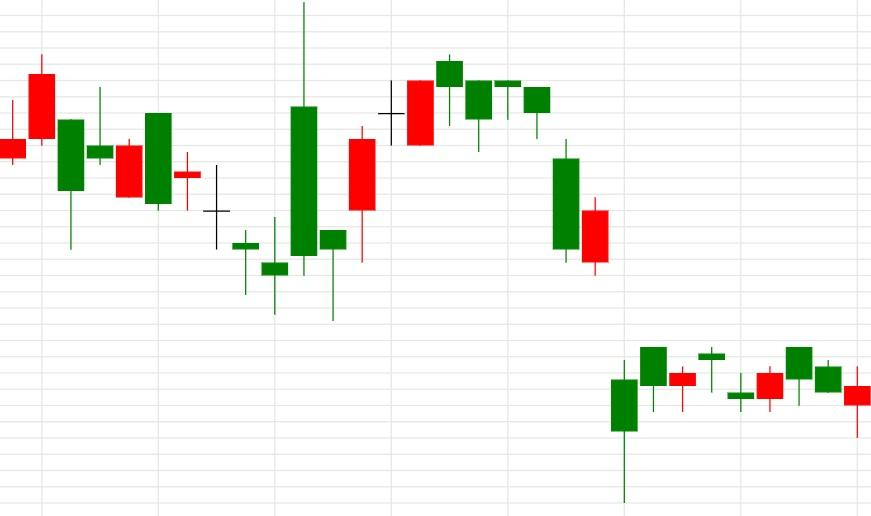hanging_man_fall: (260, 0, 464, 321)
